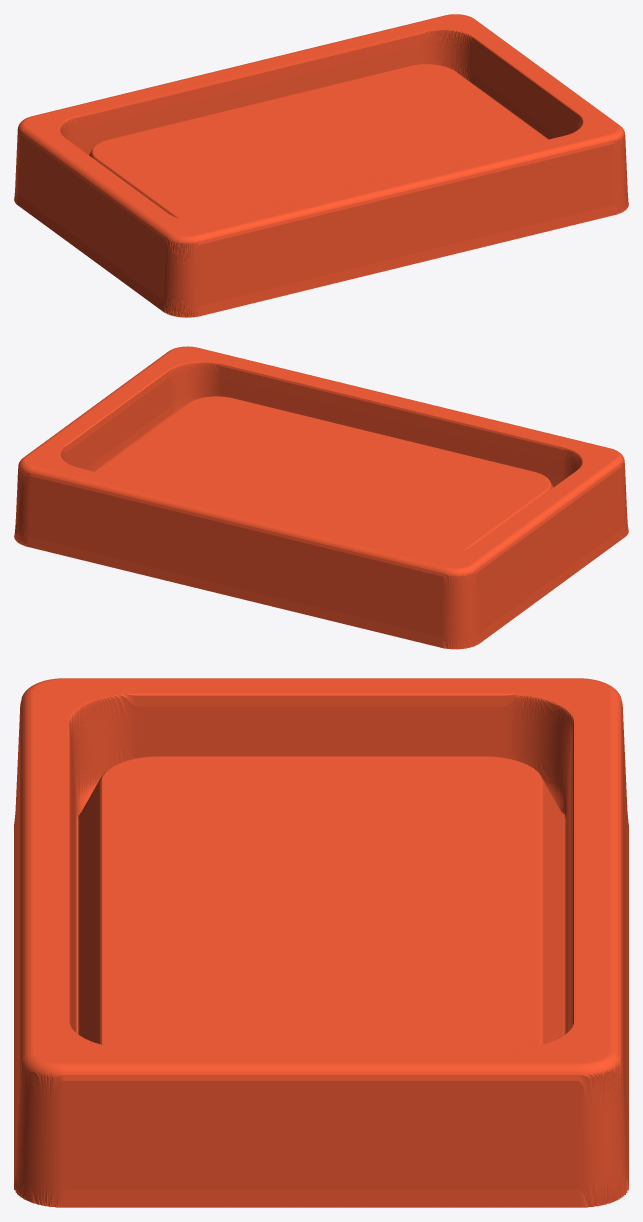
Rendered from mold.glb.
The picture shows the model from 3 angles, top to bottom: view 1: azimuth 30°, elevation 25°; view 2: azimuth 150°, elevation 25°; view 3: azimuth 270°, elevation 25°; orthographic projection. The views are drawn at different scales.
Parts seen in each view (by area): view 1: geometry_0; view 2: geometry_0; view 3: geometry_0.
Part boxes in pixels (x1,y1,x2,y2): geometry_0: (14, 14, 628, 317); geometry_0: (14, 346, 628, 649); geometry_0: (14, 678, 628, 1207).
Bounding box in the file's own units: 0.1728 × 0.0274 × 0.1122.
